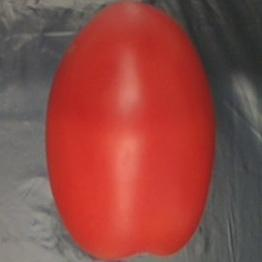unripe: (34, 0, 224, 262)
